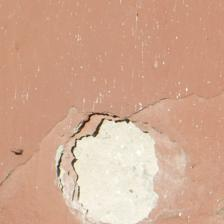Crack: (42, 114, 129, 216), (4, 106, 77, 187), (119, 88, 219, 123)
